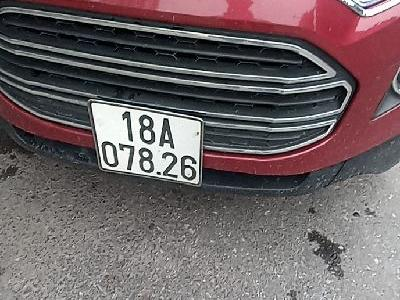lisence: (85, 96, 204, 189)
